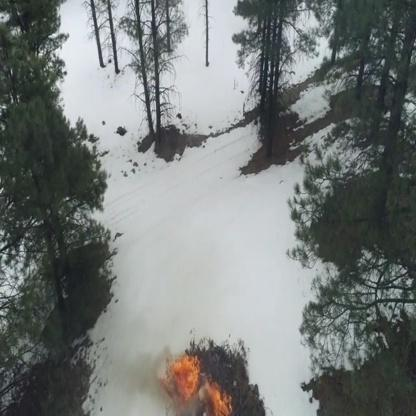Fire: (172, 358, 202, 384), (213, 385, 234, 416), (184, 354, 194, 400), (206, 379, 216, 398)
